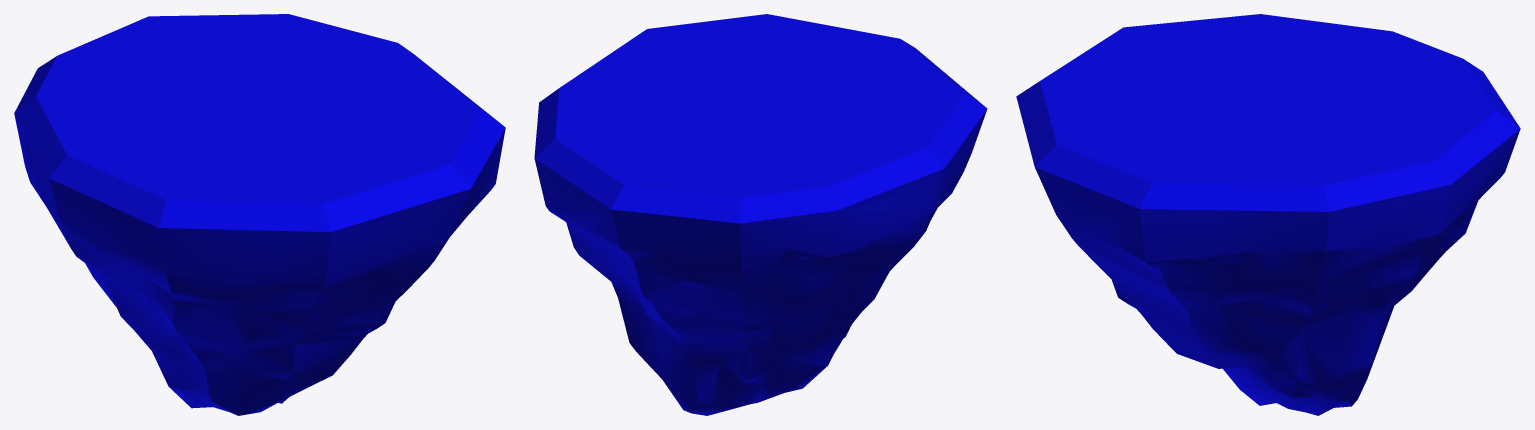
File: Jump_Map_Tiles.fbx
3 renders of one model, left to right at view 1: azimuth 30°, elevation 25°; view 2: azimuth 150°, elevation 25°; view 3: azimuth 270°, elevation 25°, orthographic. The views are drawn at different scales.
Parts seen in each view (by area): view 1: pasted__Jump_Map_Tiles_1; view 2: pasted__Jump_Map_Tiles_1; view 3: pasted__Jump_Map_Tiles_1.
Boxes of the visible parts, bbox=[...] form: pasted__Jump_Map_Tiles_1: bbox=[14, 14, 505, 415]; pasted__Jump_Map_Tiles_1: bbox=[534, 14, 987, 415]; pasted__Jump_Map_Tiles_1: bbox=[1016, 14, 1520, 415].
Size of the model in its own units: 11.37 by 8.42 by 12.79.
